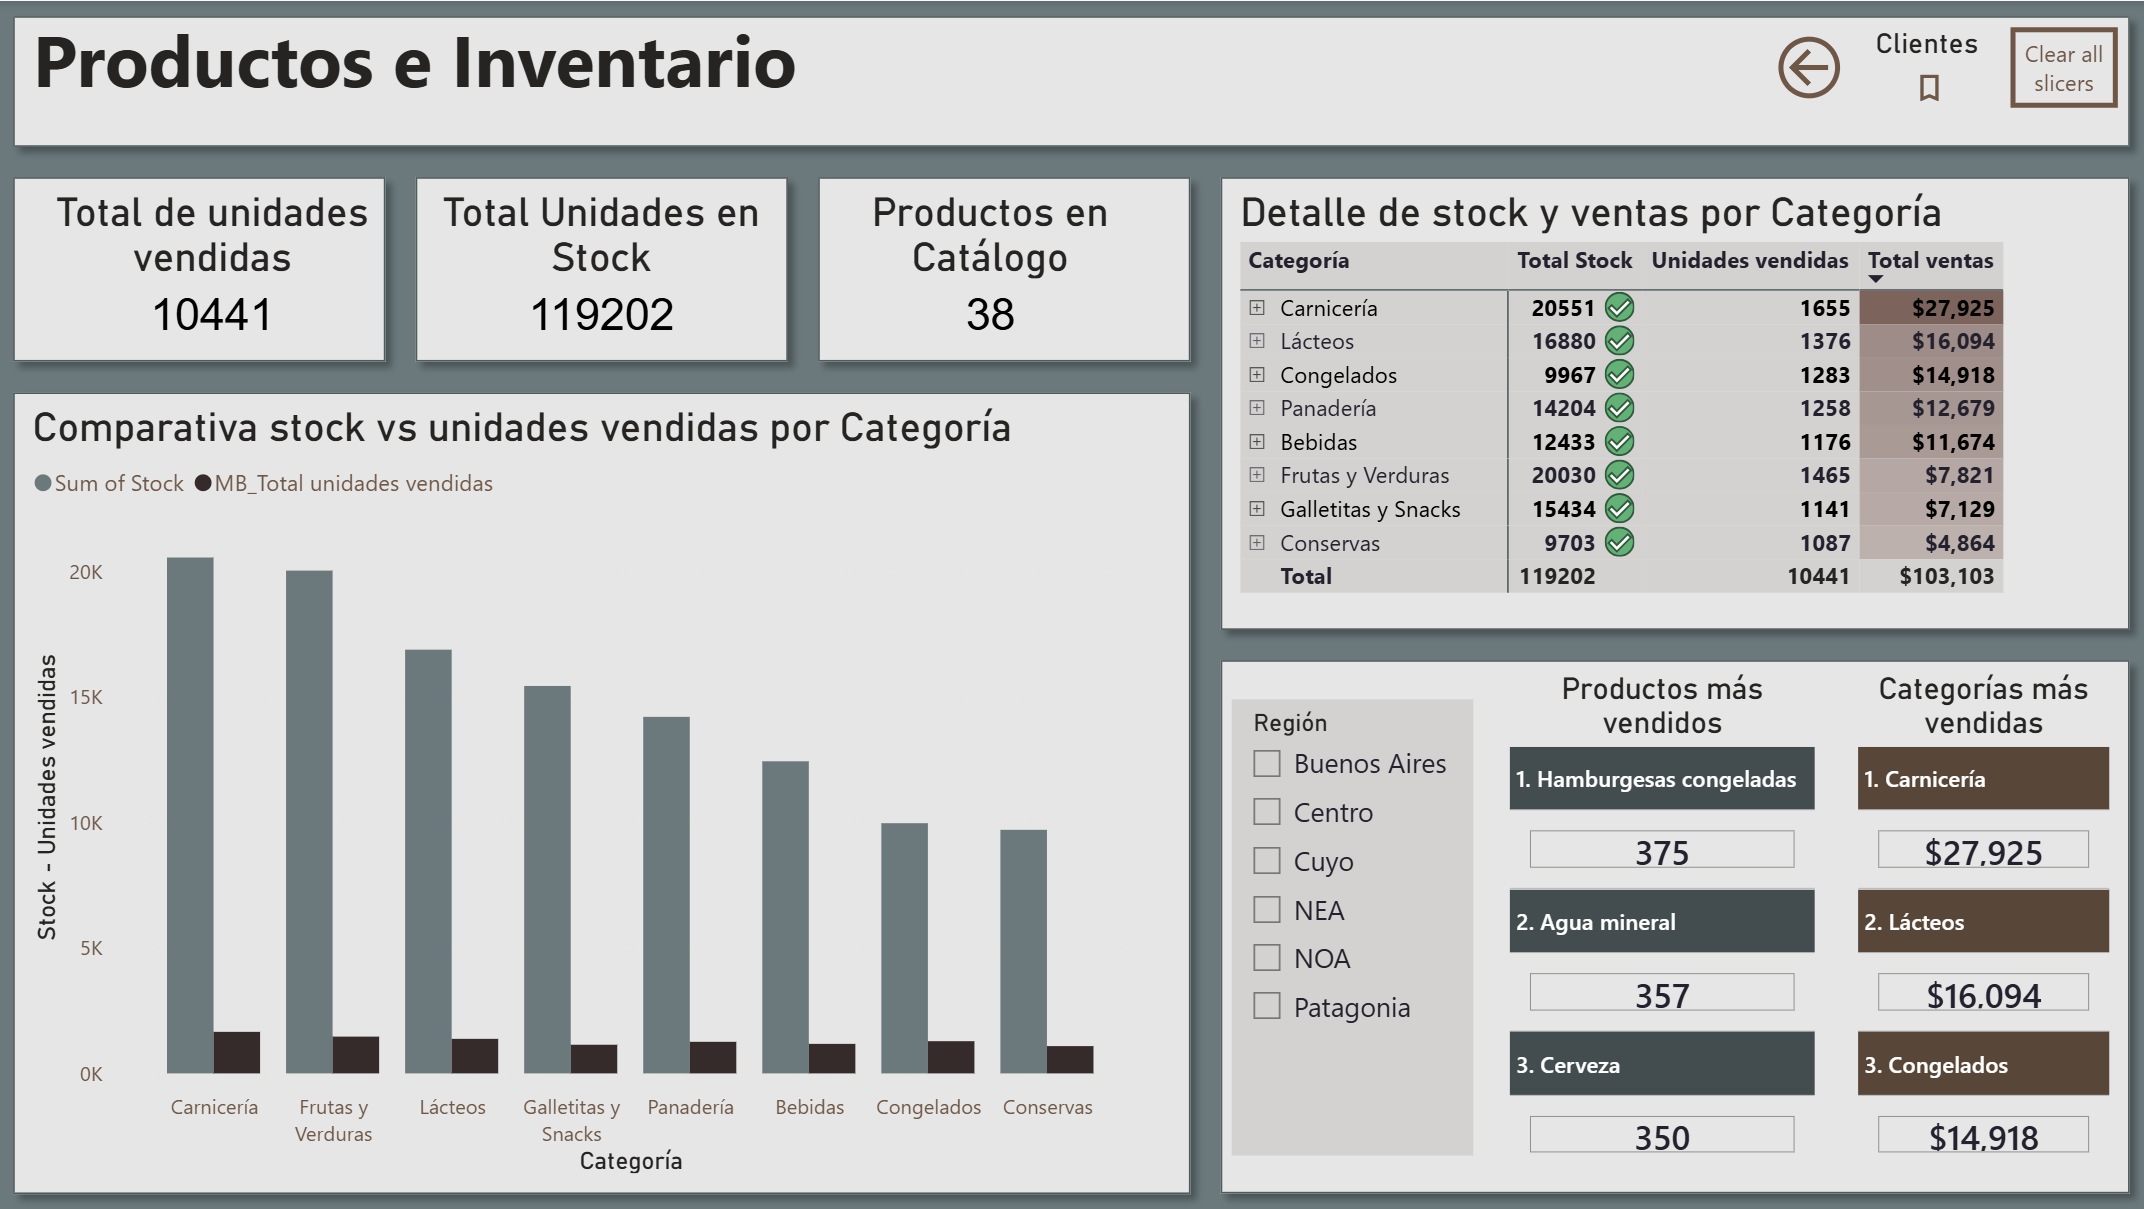

Layout of this report page (visuals, bound fields, positions):
{"tool":"powerbi","page":{"name":"Productos e Inventario","canvas":[1280,720],"ordinal":1},"visuals":[{"type":"group","id":"g1","title":"Group 1","box":[0,0,1280,720],"z":0},{"type":"shape","box":[0,0,1280,96],"z":0,"group":"g1"},{"type":"shape","box":[0,96,240,128],"z":1000,"group":"g1"},{"type":"card","title":"Total Unidades en Stock","fields":{"Values":["Sum(Productos.Stock)"]},"box":[256,112,208,96],"z":1000},{"type":"shape","box":[240,96,240,128],"z":2000,"group":"g1"},{"type":"card","title":"Productos en Catálogo","fields":{"Values":["CountNonNull(Productos.ID_Producto)"]},"box":[496,112,192,96],"z":2000},{"type":"shape","box":[480,96,240,128],"z":3000,"group":"g1"},{"type":"card","title":"Total de unidades vendidas","fields":{"Values":["_Medidas.MB_Total unidades vendidas"]},"box":[16,112,224,96],"z":3000},{"type":"shape","box":[0,224,720,496],"z":4000,"group":"g1"},{"type":"clusteredColumnChart","title":"Comparativa stock vs unidades vendidas por Categoría","fields":{"Category":["Categoria.Categoría"],"Y":["Sum(Productos.Stock)","_Medidas.MB_Total unidades vendidas"]},"box":[16,240,672,464],"z":4000},{"type":"shape","box":[720,96,560,288],"z":5000,"group":"g1"},{"type":"pivotTable","title":"Detalle de stock y ventas por Categoría","fields":{"Rows":["Categoria.Categoría","Productos.Nombre_producto"],"Values":["Sum(Productos.Stock)","_Medidas.MB_Total unidades vendidas","_Medidas.MB_Total ventas"]},"box":[736,112,528,256],"z":5000},{"type":"actionButton","box":[1056,16,48,48],"z":6000},{"type":"shape","box":[720,384,560,336],"z":6000,"group":"g1"},{"type":"actionButton","box":[1200,16,64,48],"z":7000},{"type":"slicer","fields":{"Values":["Clientes.Región"]},"box":[736,416,144,272],"z":8000},{"type":"cardVisual","title":"Categorías más vendidas","fields":{"Rows":["Categoria.Categoria_Ordenada"],"Data":["_Medidas.MB_Total ventas"]},"box":[1104,400,160,304],"z":9000},{"type":"cardVisual","title":"Productos más vendidos","fields":{"Rows":["Productos.Producto_Ordenado"],"Data":["_Medidas.MB_Total unidades vendidas"]},"box":[896,400,192,304],"z":10000},{"type":"textbox","box":[16,0,800,80],"z":11000},{"type":"actionButton","title":"Clientes","box":[1120,16,64,48],"z":12000}]}

Visuals, with their boxes in screenshot pixels (x1, y1, x2, y2), scaled from the page's 1280x720 canvas onto the 2144x1209 screenshot:
"Group 1" group: {"x1": 0, "y1": 0, "x2": 2143, "y2": 1208}
shape: {"x1": 0, "y1": 0, "x2": 2143, "y2": 161}
shape: {"x1": 0, "y1": 161, "x2": 402, "y2": 376}
"Total Unidades en Stock" card: {"x1": 429, "y1": 188, "x2": 777, "y2": 349}
shape: {"x1": 402, "y1": 161, "x2": 804, "y2": 376}
"Productos en Catálogo" card: {"x1": 831, "y1": 188, "x2": 1152, "y2": 349}
shape: {"x1": 804, "y1": 161, "x2": 1206, "y2": 376}
"Total de unidades vendidas" card: {"x1": 27, "y1": 188, "x2": 402, "y2": 349}
shape: {"x1": 0, "y1": 376, "x2": 1206, "y2": 1208}
"Comparativa stock vs unidades vendidas por Categoría" clusteredColumnChart: {"x1": 27, "y1": 403, "x2": 1152, "y2": 1182}
shape: {"x1": 1206, "y1": 161, "x2": 2143, "y2": 645}
"Detalle de stock y ventas por Categoría" pivotTable: {"x1": 1233, "y1": 188, "x2": 2117, "y2": 618}
actionButton: {"x1": 1769, "y1": 27, "x2": 1849, "y2": 107}
shape: {"x1": 1206, "y1": 645, "x2": 2143, "y2": 1208}
actionButton: {"x1": 2010, "y1": 27, "x2": 2117, "y2": 107}
slicer - Clientes.Región: {"x1": 1233, "y1": 699, "x2": 1474, "y2": 1155}
"Categorías más vendidas" cardVisual: {"x1": 1849, "y1": 672, "x2": 2117, "y2": 1182}
"Productos más vendidos" cardVisual: {"x1": 1501, "y1": 672, "x2": 1822, "y2": 1182}
textbox: {"x1": 27, "y1": 0, "x2": 1367, "y2": 134}
"Clientes" actionButton: {"x1": 1876, "y1": 27, "x2": 1983, "y2": 107}
